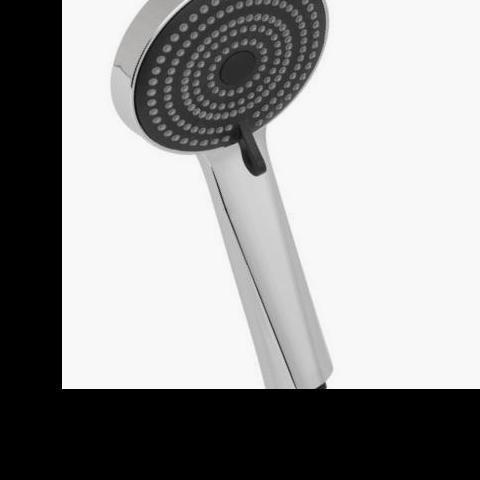Ducha: (103, 0, 357, 388)
